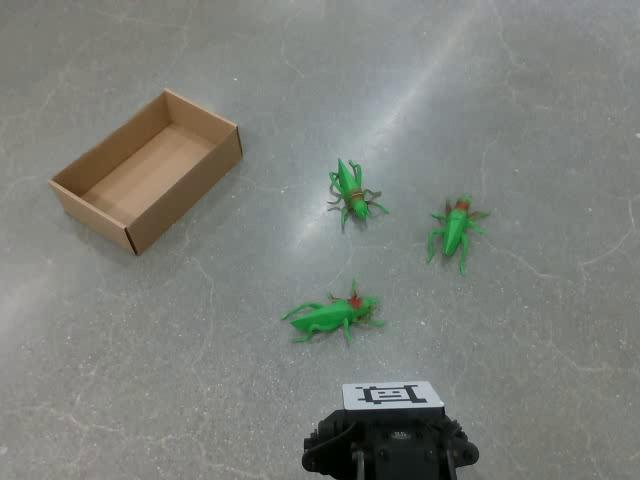box: (47, 87, 243, 256)
grasshopper: (280, 278, 384, 346), (424, 192, 490, 275), (325, 157, 389, 232)
